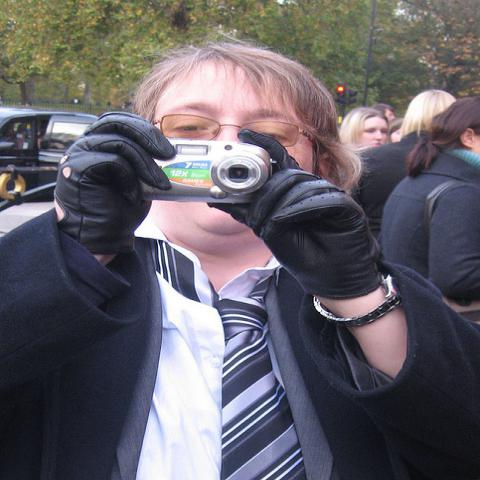car: (0, 107, 100, 203)
